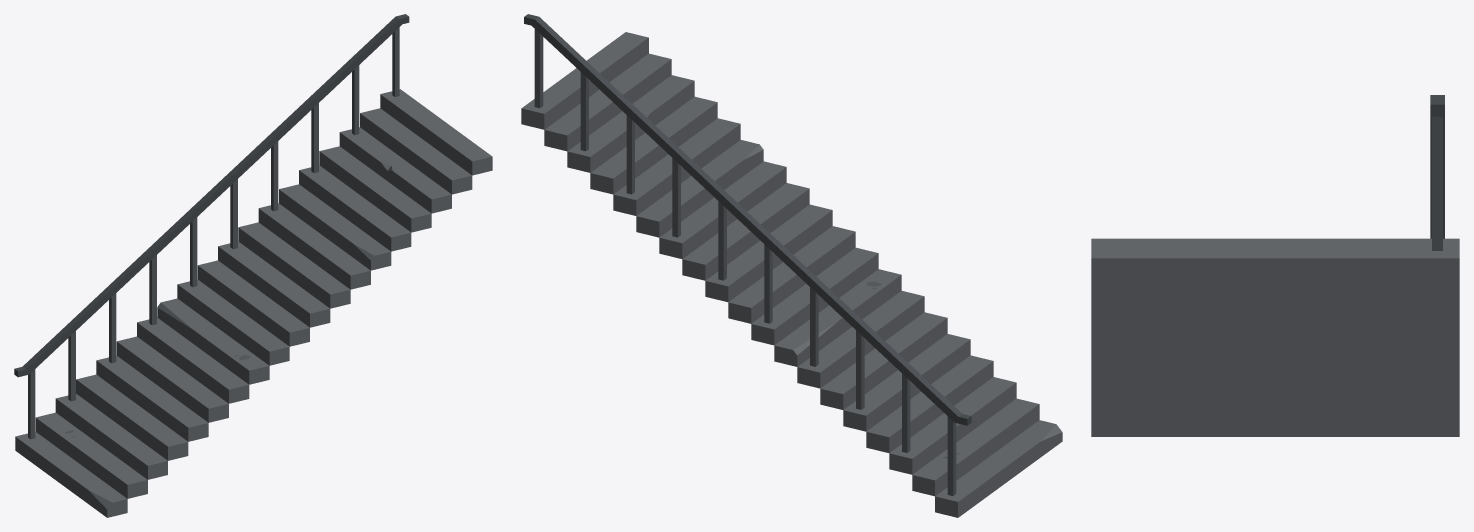
Rendered from Stairs_01.fbx.
3 views of the same model, side by side, from view 1: azimuth 30°, elevation 25°; view 2: azimuth 150°, elevation 25°; view 3: azimuth 270°, elevation 25° (orthographic). The views are drawn at different scales.
Parts seen in each view (by area): view 1: Stairs_01; view 2: Stairs_01; view 3: Stairs_01.
Boxes of the visible parts, x1,y1,x2,y2 form: Stairs_01: [14, 14, 492, 517]; Stairs_01: [521, 14, 1062, 517]; Stairs_01: [1091, 95, 1459, 436].
Bounding box in the file's own units: 583 × 491 × 237.
